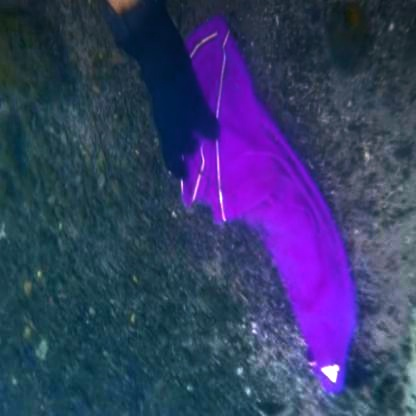plastic: (198, 31, 370, 388)
